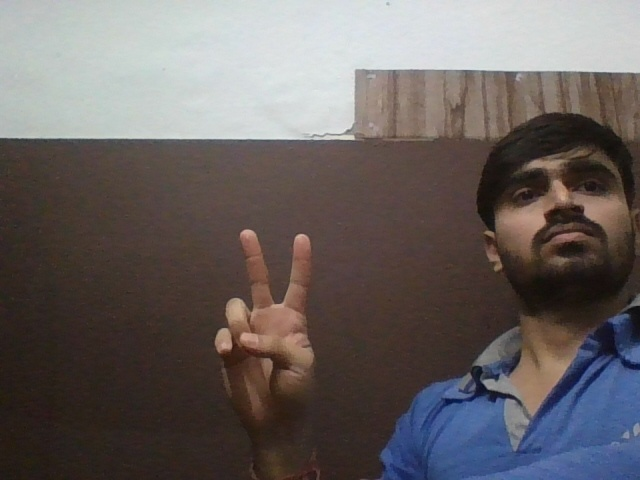V: (203, 227, 328, 440)
